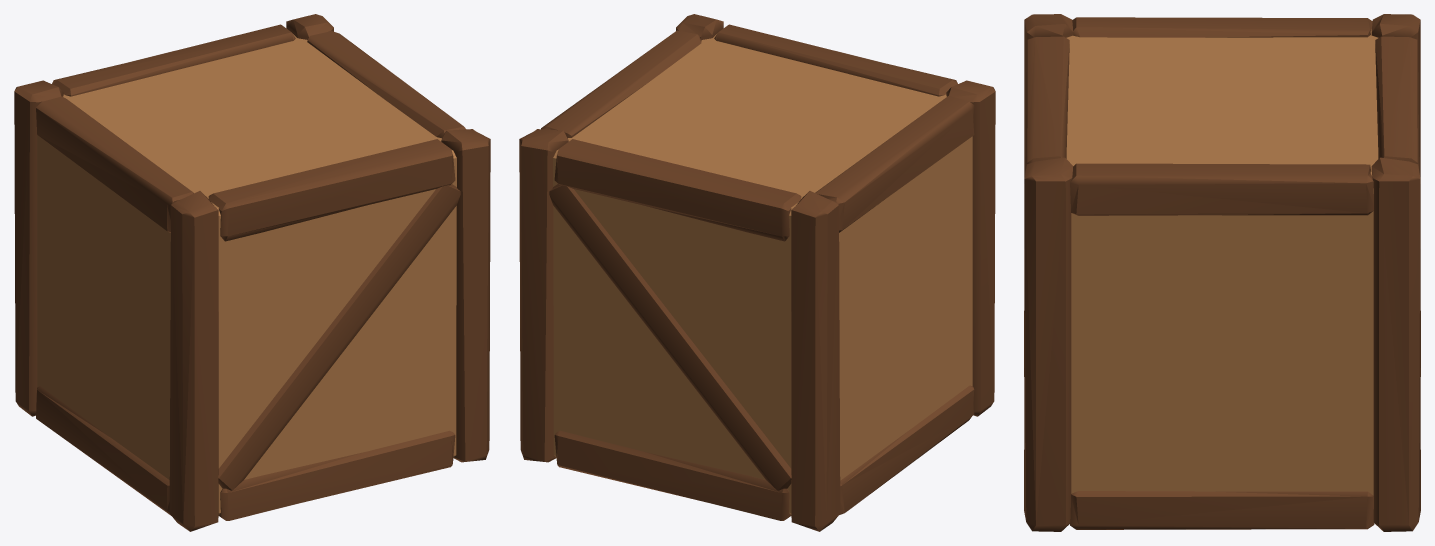
Rendered from crate_generic_preview.glb.
The picture shows the model from 3 angles, left to right: view 1: azimuth 30°, elevation 25°; view 2: azimuth 150°, elevation 25°; view 3: azimuth 270°, elevation 25°; orthographic projection. The views are drawn at different scales.
Visible parts, largest first — view 1: panel, post_front_left, rail_x_front_top, post_front_right, brace_front, rail_x_front_bottom, post_back_left, rail_z_top_left, rail_z_bottom_left, rail_x_back_top, rail_z_top_right, post_back_right; view 2: panel, post_back_left, rail_x_back_top, post_back_right, brace_back, rail_x_back_bottom, post_front_left, rail_z_top_left, rail_z_bottom_left, rail_x_front_top, rail_z_top_right, post_front_right; view 3: panel, post_back_right, post_front_right, rail_z_top_right, rail_z_bottom_right, rail_z_top_left, rail_x_front_top, rail_x_back_top, post_back_left, post_front_left.
Boxes of the visible parts, x1,y1,x2,y2 form: panel: (37,34,456,514); post_front_left: (169,191,218,531); rail_x_front_top: (208,139,455,241); post_front_right: (441,129,490,462); brace_front: (218,184,460,490); rail_x_front_bottom: (218,430,455,520); post_back_left: (14,80,63,416); rail_z_top_left: (36,96,193,232); rail_z_bottom_left: (36,386,171,515); rail_x_back_top: (52,24,295,96); rail_z_top_right: (307,31,465,138); post_back_right: (286,14,333,39); panel: (553,34,972,514); post_back_left: (791,191,840,531); rail_x_back_top: (554,139,801,241); post_back_right: (519,129,568,462); brace_back: (549,184,791,490); rail_x_back_bottom: (554,430,791,520); post_front_left: (946,80,995,416); rail_z_top_left: (815,95,974,232); rail_z_bottom_left: (839,385,974,514); rail_x_front_top: (714,24,957,96); rail_z_top_right: (541,30,701,137); post_front_right: (676,14,723,39); panel: (1066,29,1378,495); post_back_right: (1371,157,1420,531); post_front_right: (1024,157,1073,531); rail_z_top_right: (1070,163,1373,215); rail_z_bottom_right: (1070,491,1374,529); rail_z_top_left: (1072,17,1372,37); rail_x_front_top: (1027,36,1069,163); rail_x_back_top: (1375,36,1417,163); post_back_left: (1371,14,1420,376); post_front_left: (1024,14,1073,376).
Size of the model in its own units: 0.6035 by 0.6079 by 0.6052.
